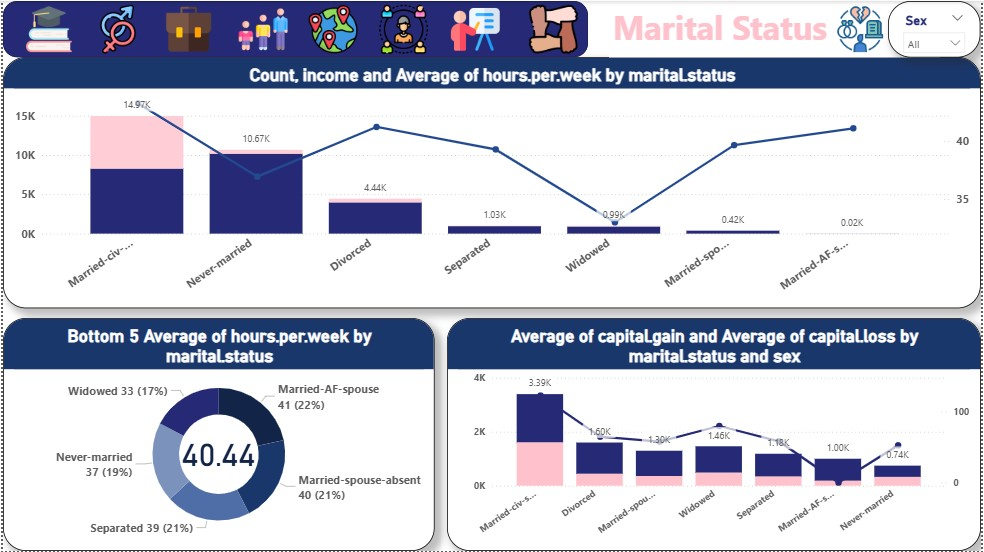

The dashboard page shown, as its layout file describes it:
{"tool":"powerbi","page":{"name":"marital","canvas":[1280,720],"ordinal":5},"visuals":[{"type":"lineStackedColumnComboChart","title":"Count, income and Average of hours.per.week by marital.status","fields":{"Category":["DimMaritalStatus.marital.status"],"Series":["adult_cleaned.income"],"Y":["CountNonNull(adult_cleaned.income)"],"Y2":["Avg(adult_cleaned.hours.per.week)"]},"box":[0,73.9,1280,329.2],"z":0},{"type":"donutChart","title":"Bottom 5 Average of hours.per.week by marital.status","fields":{"Category":["DimMaritalStatus.marital.status"],"Y":["Avg(adult_cleaned.hours.per.week)"]},"box":[0,415.5,565.2,304.6],"z":1000},{"type":"lineStackedColumnComboChart","fields":{"Category":["DimMaritalStatus.marital.status"],"Y2":["Avg(adult_cleaned.capital.loss)"],"Series":["DimSex.sex"],"Y":["Avg(adult_cleaned.capital.gain)"]},"box":[581,415.5,699,304.6],"z":2000},{"type":"card","fields":{"Values":["Avg(adult_cleaned.hours.per.week)"]},"box":[227.1,558.1,110.9,65.1],"z":3000},{"type":"shape","box":[0,0,765.9,73.9],"z":4000},{"type":"textbox","box":[793,0,433.1,73.9],"z":5000},{"type":"image","box":[17.6,0,86.3,73.9],"z":6000},{"type":"image","box":[112.7,0,75.7,73.9],"z":7000},{"type":"image","box":[199,0,88,73.9],"z":8000},{"type":"image","box":[294,0,91.6,73.9],"z":9000},{"type":"image","box":[394.4,0,75.7,73.9],"z":10000},{"type":"image","box":[1085.1,0,73.9,73.9],"z":11000},{"type":"image","box":[480.7,0,88,73.9],"z":12000},{"type":"image","box":[577.5,0,82.8,73.9],"z":13000},{"type":"image","box":[676.1,0,89.8,73.9],"z":14000},{"type":"slicer","fields":{"Values":["DimSex.sex"]},"box":[1159.1,0,120.9,73.9],"z":14001}]}

Visuals, with their boxes in screenshot pixels (x1, y1, x2, y2), scaled from the page's 1280x720 canvas onto the 984x552 screenshot:
"Count, income and Average of hours.per.week by marital.status" lineStackedColumnComboChart: [0, 57, 983, 309]
"Bottom 5 Average of hours.per.week by marital.status" donutChart: [0, 319, 434, 551]
lineStackedColumnComboChart - DimMaritalStatus.marital.status x Avg(adult_cleaned.capital.loss): [447, 319, 983, 551]
card - Avg(adult_cleaned.hours.per.week): [175, 428, 260, 478]
shape: [0, 0, 589, 57]
textbox: [610, 0, 943, 57]
image: [14, 0, 80, 57]
image: [87, 0, 145, 57]
image: [153, 0, 221, 57]
image: [226, 0, 296, 57]
image: [303, 0, 361, 57]
image: [834, 0, 891, 57]
image: [370, 0, 437, 57]
image: [444, 0, 508, 57]
image: [520, 0, 589, 57]
slicer - DimSex.sex: [891, 0, 983, 57]
